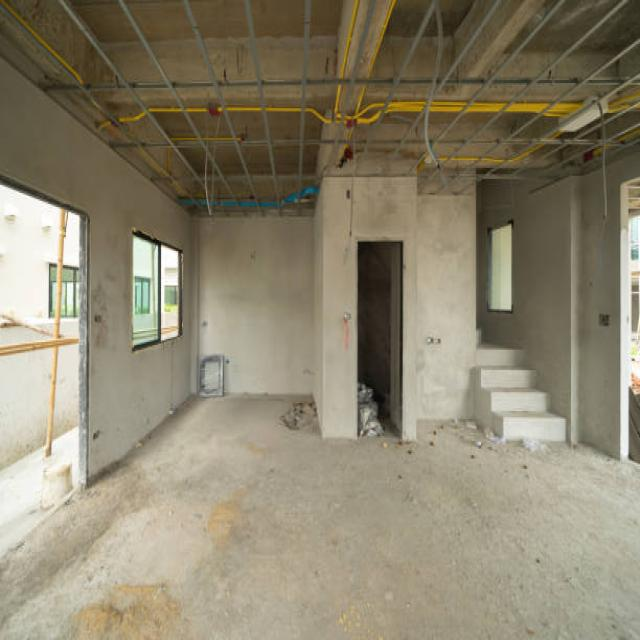floor: (0, 393, 640, 640), (0, 444, 46, 560), (52, 426, 81, 488)
wall: (0, 58, 193, 484), (323, 177, 418, 441), (480, 178, 573, 446), (190, 219, 317, 398), (580, 150, 640, 459), (417, 168, 476, 421), (113, 228, 183, 358), (0, 186, 59, 320), (0, 348, 54, 470), (312, 177, 324, 440), (571, 177, 581, 446), (52, 345, 79, 443), (476, 185, 483, 331), (0, 327, 52, 345), (63, 213, 79, 266), (59, 320, 78, 335), (34, 323, 54, 334)
